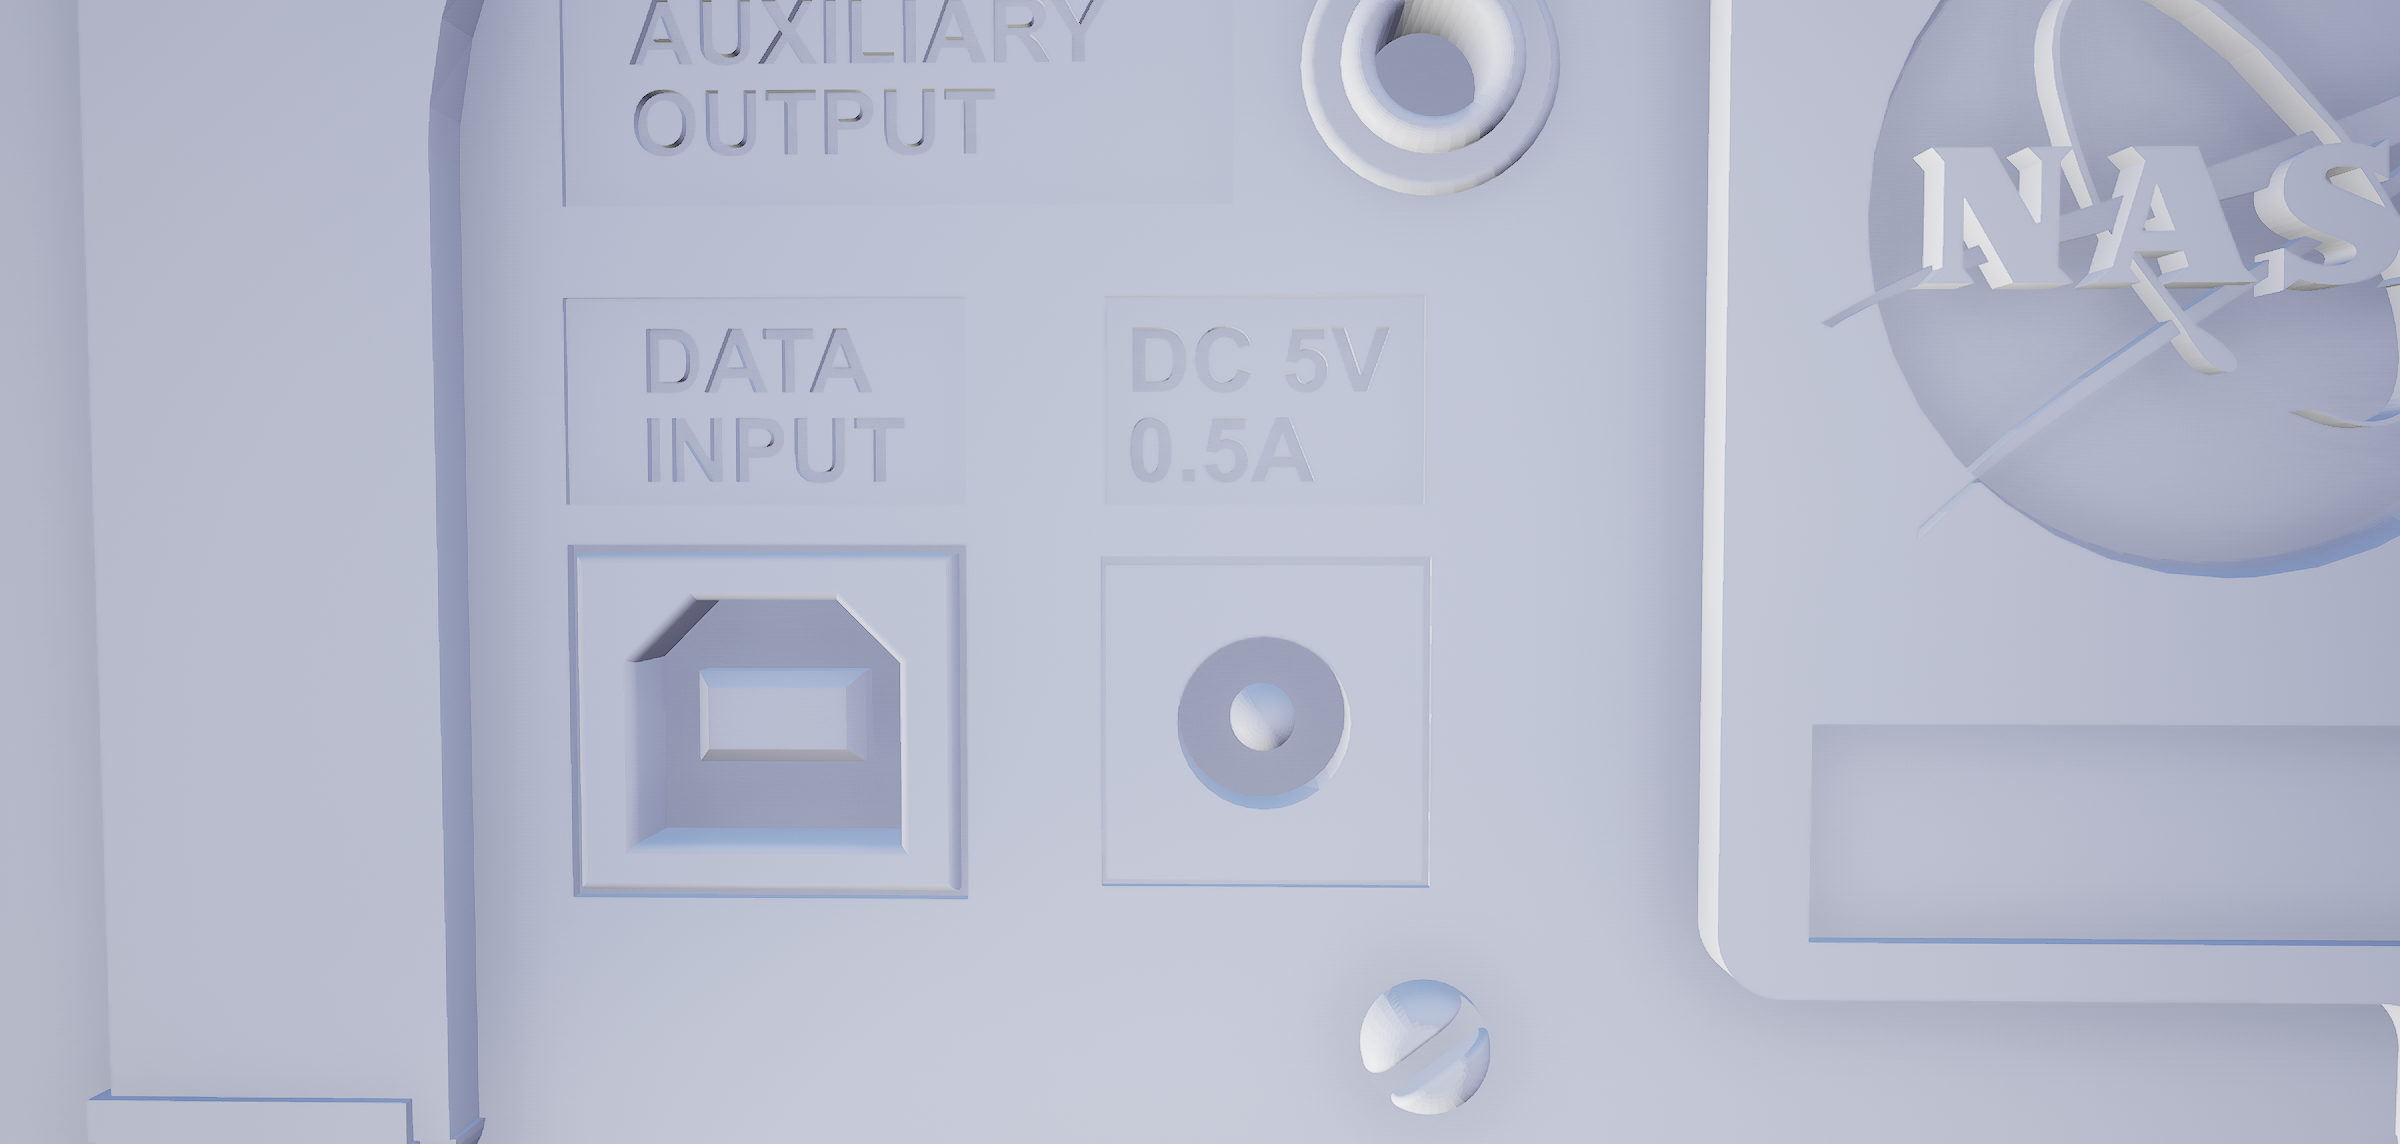aux: (1292, 2, 1578, 210)
dc: (1163, 626, 1371, 815)
usb: (621, 583, 920, 864)
